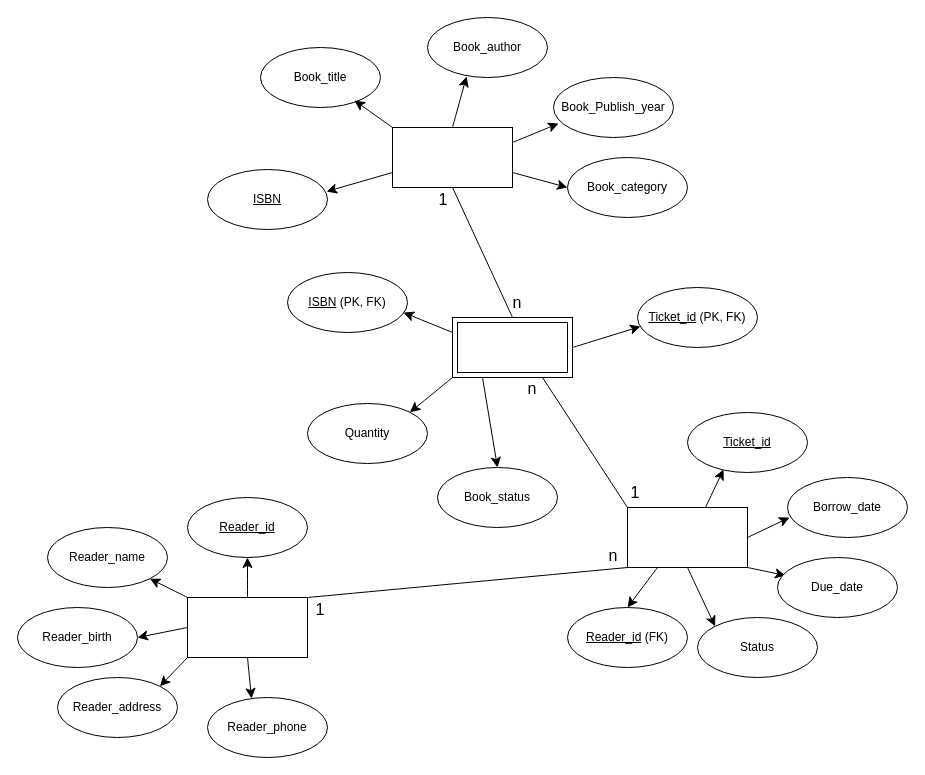
This 925x775 diagram has some shape labels left out. Here are the shapes that lost their labels. From the top down, the centre of each, then its label:
At (452,157): "Books".
At (512,347): "Checkout_detail".
At (687,537): "Borrow_ticket".
At (247,627): "Readers".
